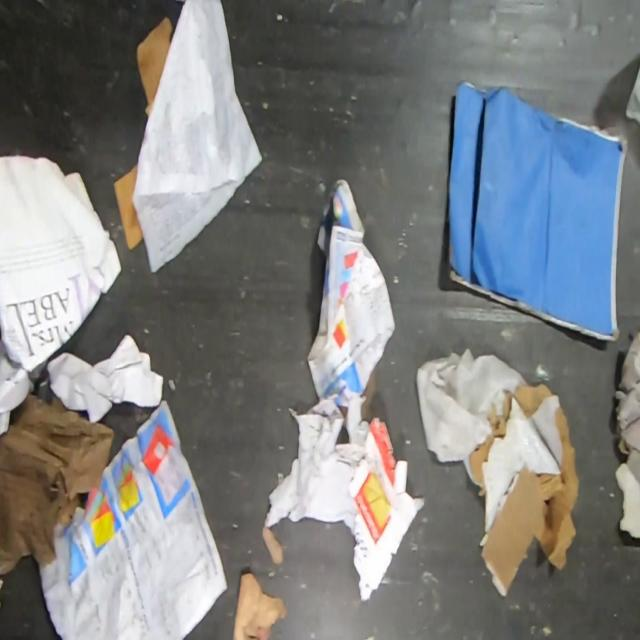cardboard: (444, 76, 632, 345), (466, 382, 580, 596), (0, 370, 116, 576), (136, 16, 176, 118), (112, 164, 145, 252)
